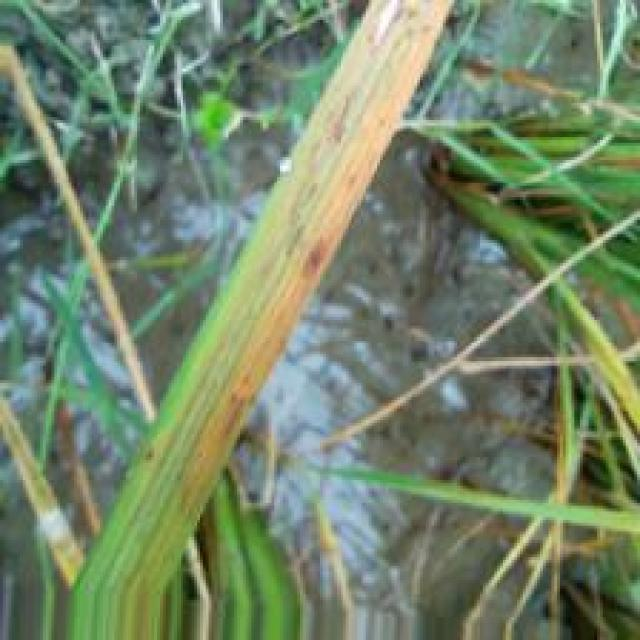Narrow_Brown_Leaf_Spot: (222, 393, 254, 443), (302, 237, 329, 282)
